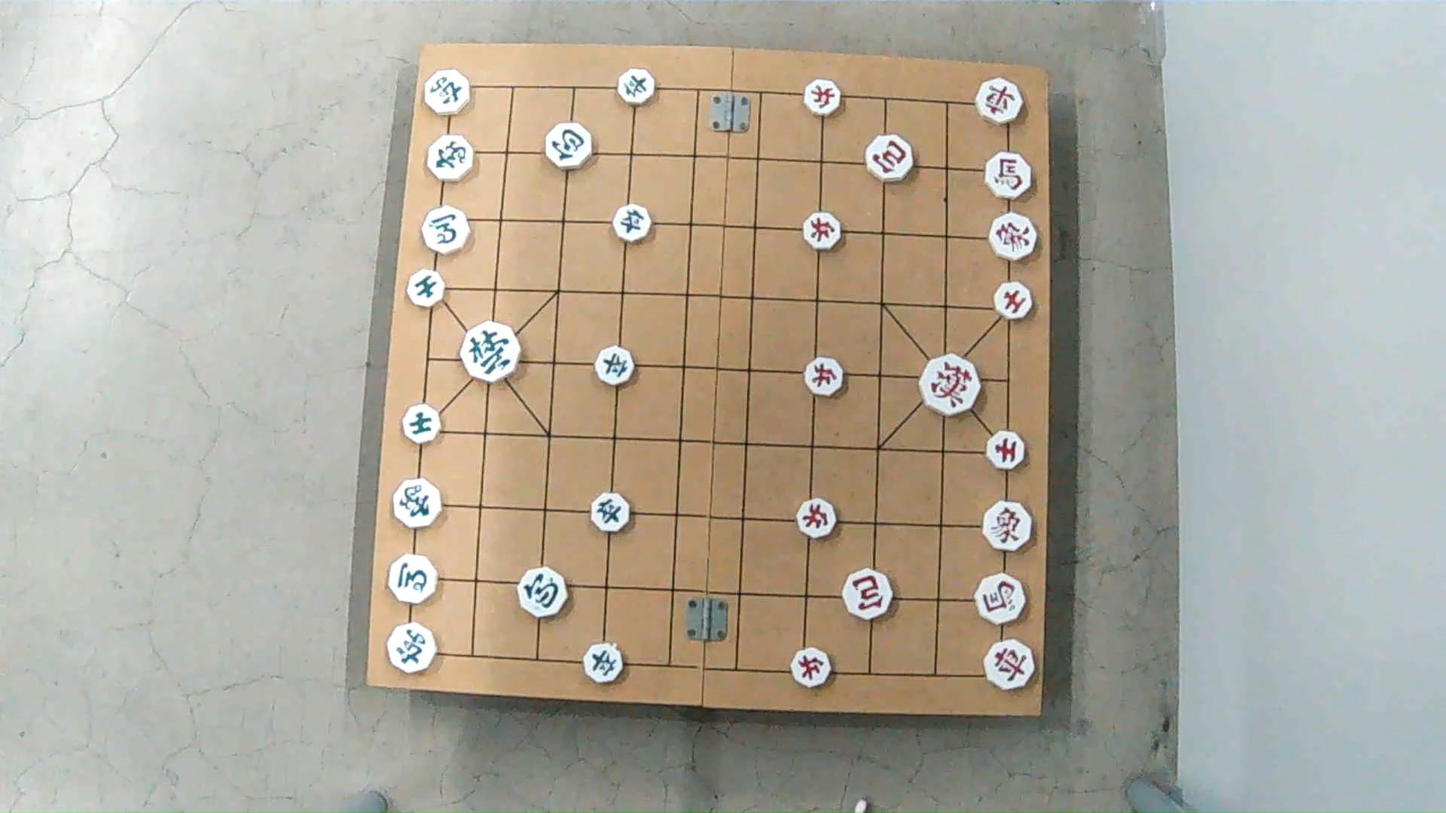cha_green: (387, 623, 439, 671), (420, 72, 471, 115)
cha_red: (981, 641, 1036, 688), (973, 81, 1025, 122)
jol_green: (580, 643, 624, 680), (597, 349, 639, 385), (589, 496, 632, 531), (616, 69, 657, 105), (612, 208, 654, 241)
jol_red: (802, 359, 846, 394), (795, 503, 837, 539), (792, 649, 834, 684), (801, 216, 844, 250), (803, 82, 844, 115)
ma_green: (389, 557, 441, 603), (422, 209, 474, 251)
ma_red: (976, 573, 1027, 626), (983, 157, 1033, 196)
po_green: (516, 570, 569, 616), (542, 124, 593, 166)
po_red: (843, 572, 895, 618), (867, 136, 919, 179)
sa_green: (404, 266, 450, 307), (401, 406, 444, 441)
sa_red: (986, 433, 1028, 469), (990, 283, 1033, 318)
sang_green: (392, 477, 441, 527), (426, 135, 477, 181)
sang_red: (981, 505, 1036, 551), (987, 212, 1036, 261)
wang_green: (459, 327, 520, 382)
wang_red: (920, 355, 983, 416)
